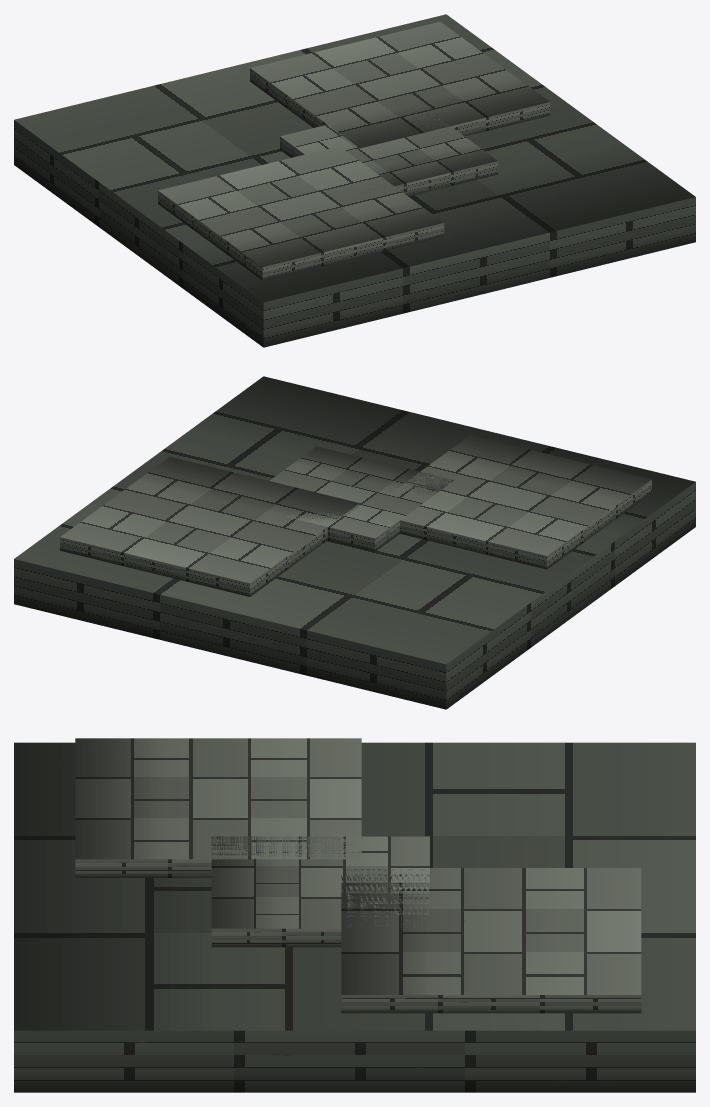
File: ground_flagstone.gltf
The picture shows the model from 3 angles, top to bottom: view 1: azimuth 30°, elevation 25°; view 2: azimuth 150°, elevation 25°; view 3: azimuth 270°, elevation 25°; orthographic projection. The views are drawn at different scales.
Parts seen in each view (by area): view 1: ground_flagstone; view 2: ground_flagstone; view 3: ground_flagstone.
Part boxes in pixels (box(x1,y1,x2,y2)): ground_flagstone: box(14, 14, 695, 347); ground_flagstone: box(14, 376, 695, 709); ground_flagstone: box(14, 738, 695, 1092).
Size of the model in its own units: 1 by 0.13 by 1.
Materials: 1 (1 with a texture image).
